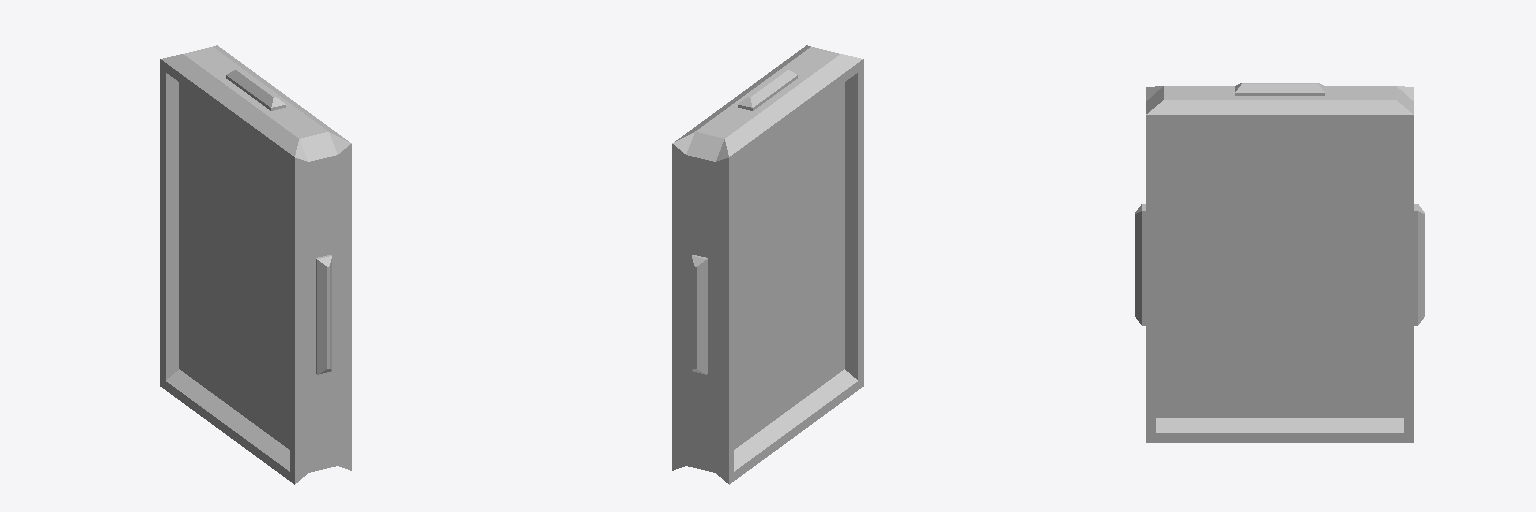
Rendered from roadsign.obj.
3 views of the same model, side by side, from view 1: azimuth 30°, elevation 25°; view 2: azimuth 150°, elevation 25°; view 3: azimuth 270°, elevation 25° (orthographic).
Visible parts, largest first — view 1: Cube1; view 2: Cube1; view 3: Cube1.
Boxes of the visible parts, <box> form: Cube1: <box>160,45,351,484</box>; Cube1: <box>672,45,863,484</box>; Cube1: <box>1135,83,1424,442</box>.
Size of the model in its own units: 0.3849 by 2.24 by 1.7.